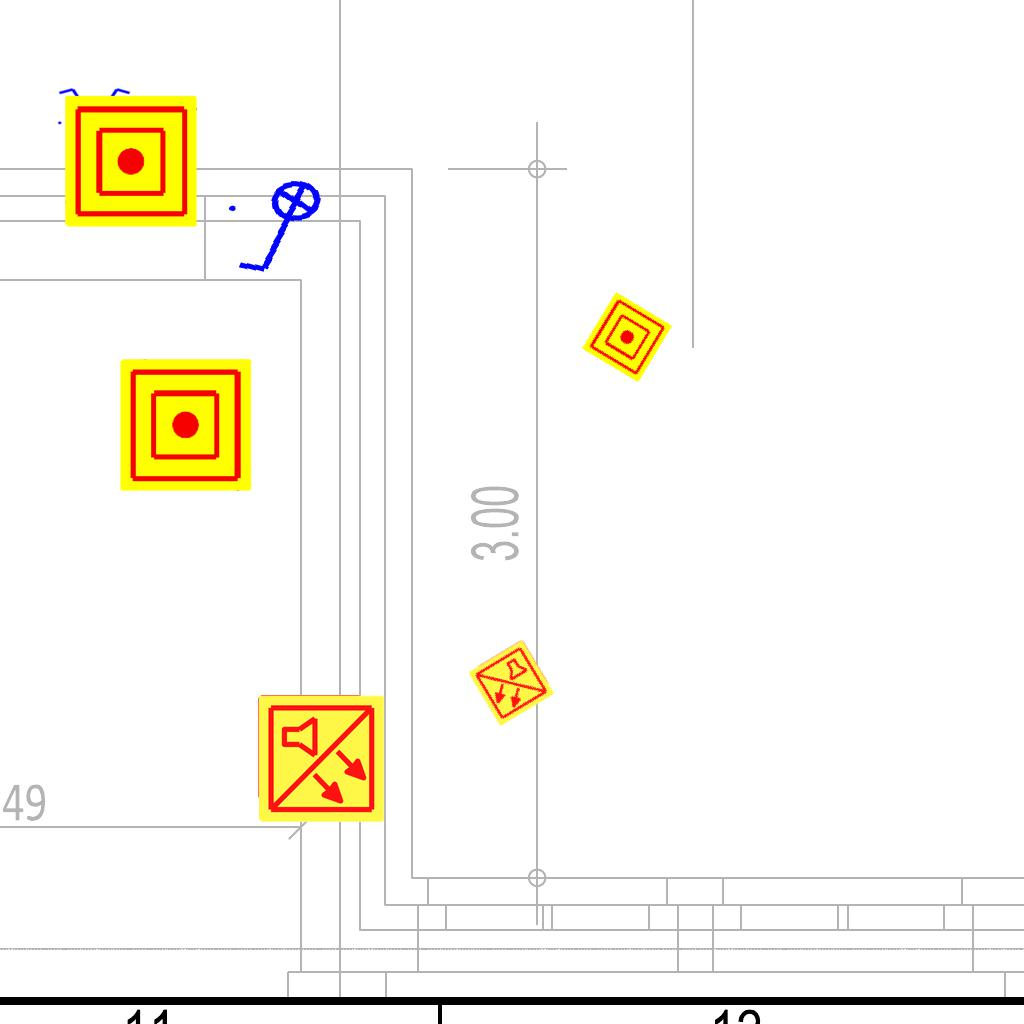Ausschalter_beleuchtet: (220, 174, 344, 284)
NAM-Nichtautomatischer_Melder: (120, 359, 252, 491), (65, 95, 197, 227), (581, 291, 673, 383)
OKW_Multisensormelder_(Kombination_optischer_Rauch-Kahlenmonoxid_Waerme-Melder): (255, 693, 387, 825), (465, 637, 557, 729)
Serienschalter: (52, 86, 136, 134)
